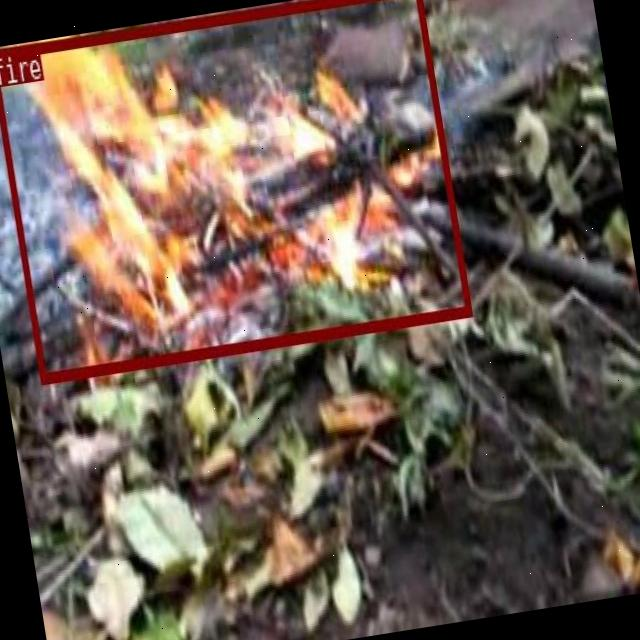fire: (0, 0, 471, 382)
